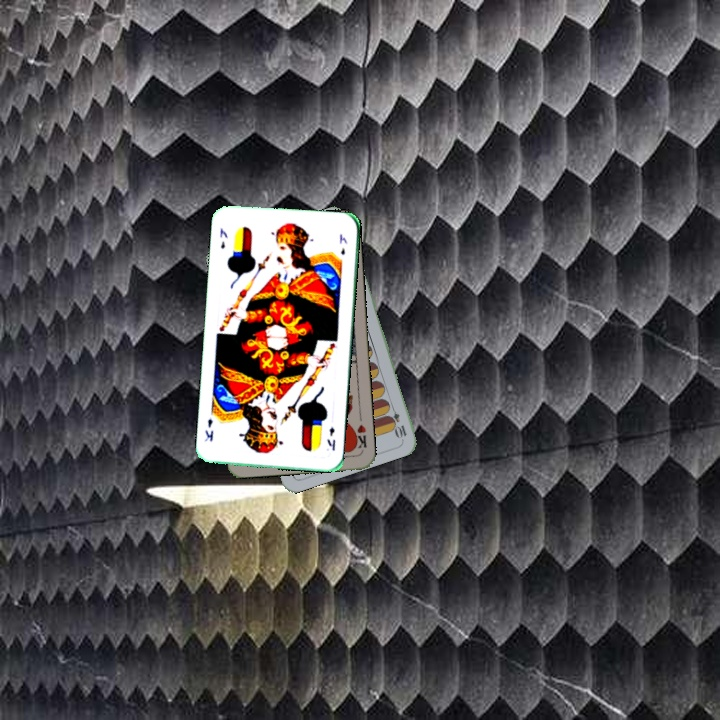E10: (385, 401, 409, 441)
EK: (323, 424, 338, 453), (216, 224, 230, 251)
HK: (349, 420, 369, 453)
